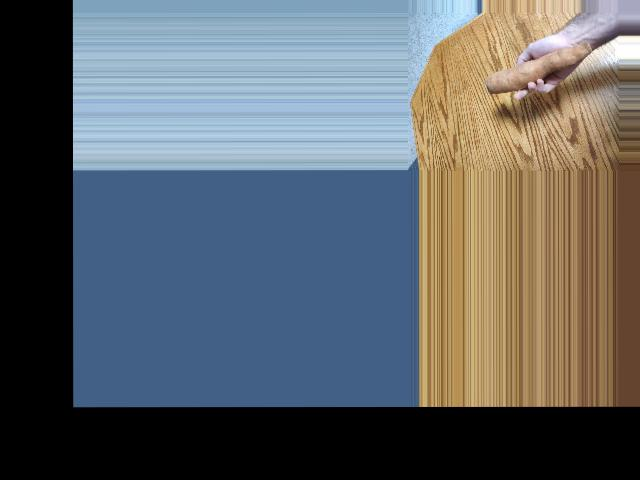sweet_potato: (489, 40, 592, 86)
